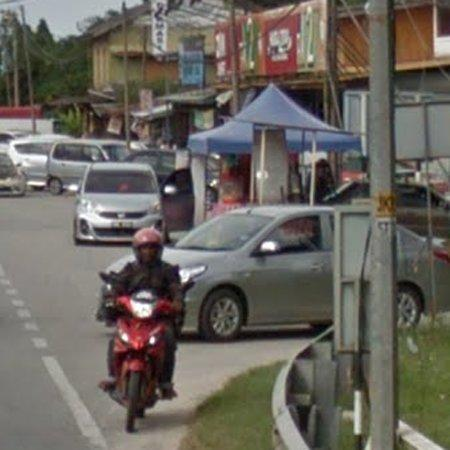motorcycles: (110, 291, 171, 432)
